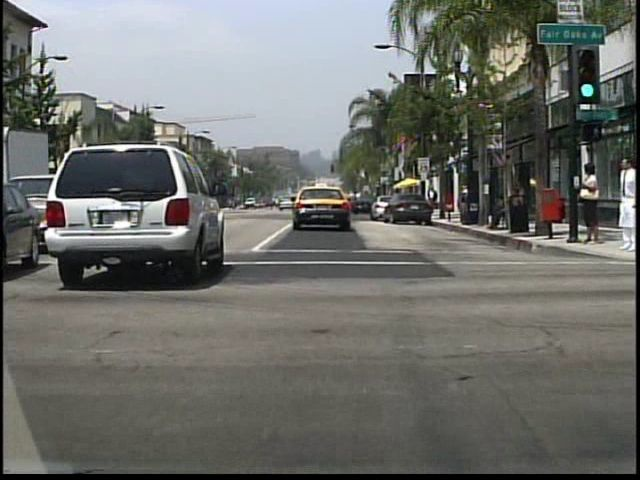person: (575, 162, 602, 245), (485, 191, 512, 232), (508, 179, 522, 228), (426, 184, 439, 213)
